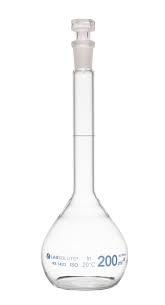Volumetric flask: (37, 15, 131, 288)
